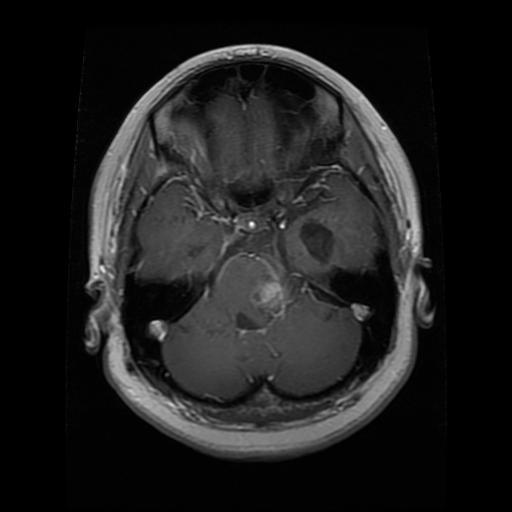Gliomia_tumour: (246, 265, 293, 317)
